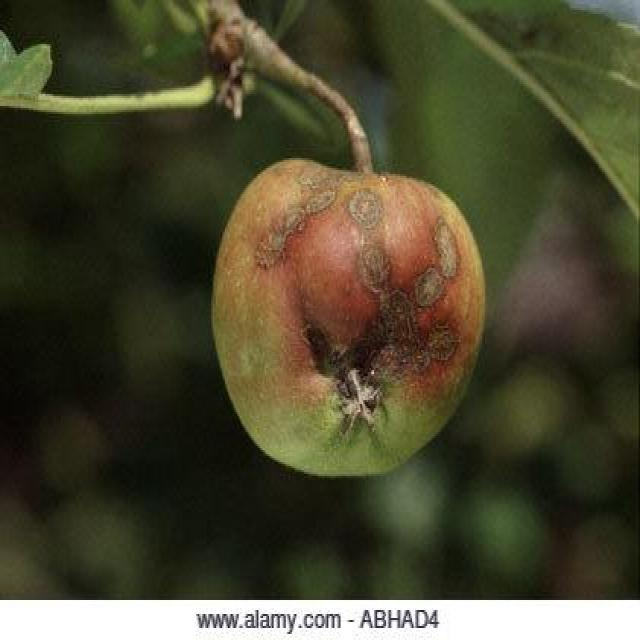Rotten: (210, 153, 490, 489)
